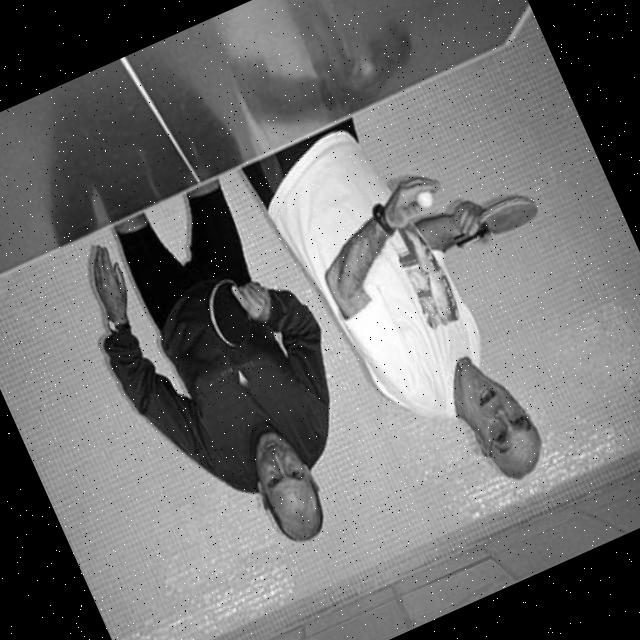ping-pong-ball: (412, 184, 437, 212)
